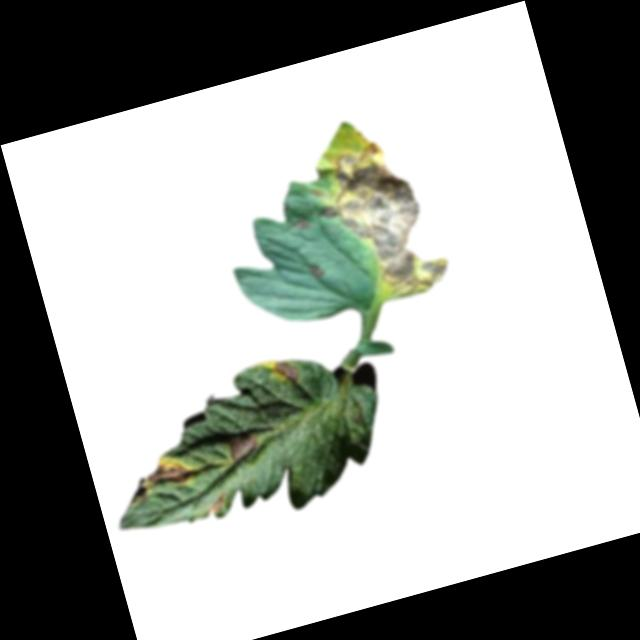Early_blight: (303, 135, 453, 313), (139, 451, 196, 495), (227, 429, 265, 463), (267, 357, 301, 388), (207, 492, 230, 518), (292, 215, 313, 234), (307, 262, 326, 283)
